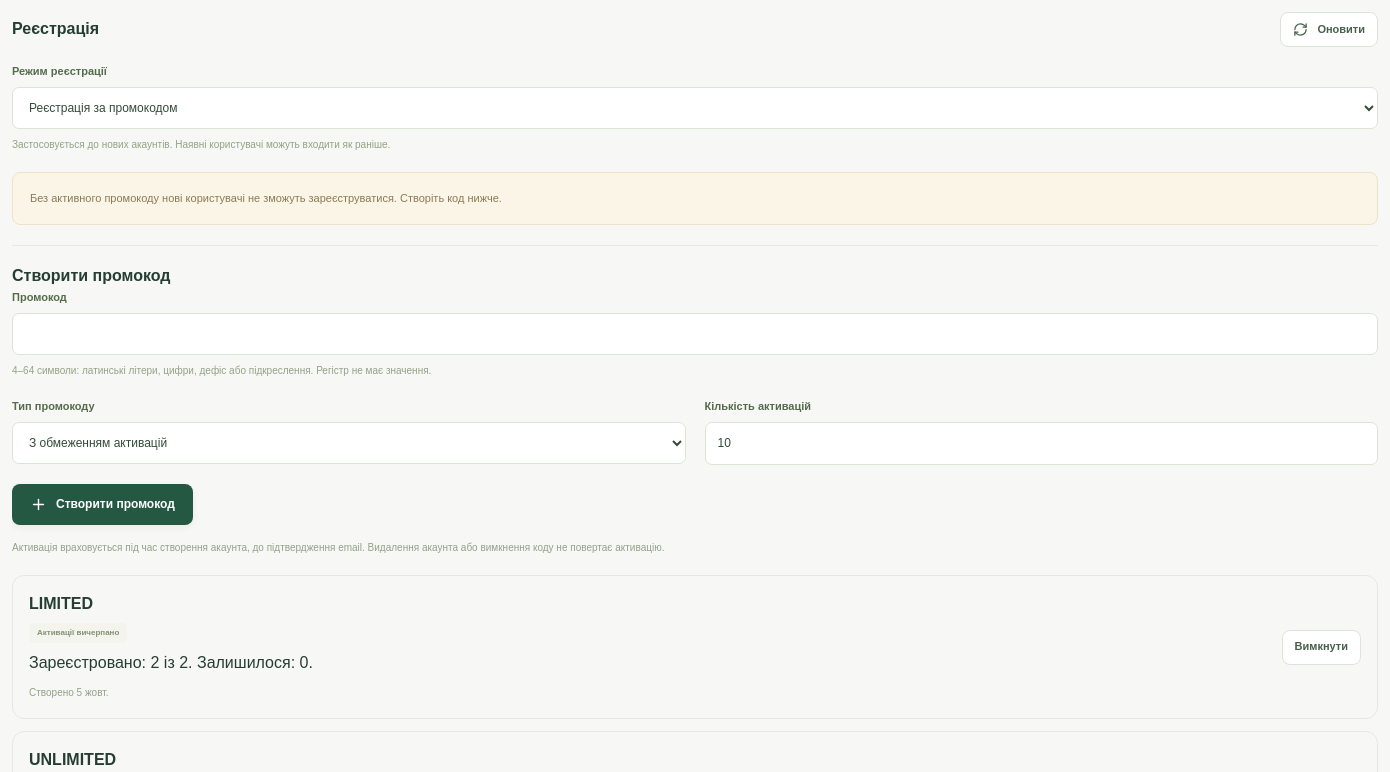
Test case: uses the server aggregate across pages and formats large counts for the interface locale
Click the button "Оновити".
click(1329, 30)  # box left=1280, top=12, right=1378, bottom=47
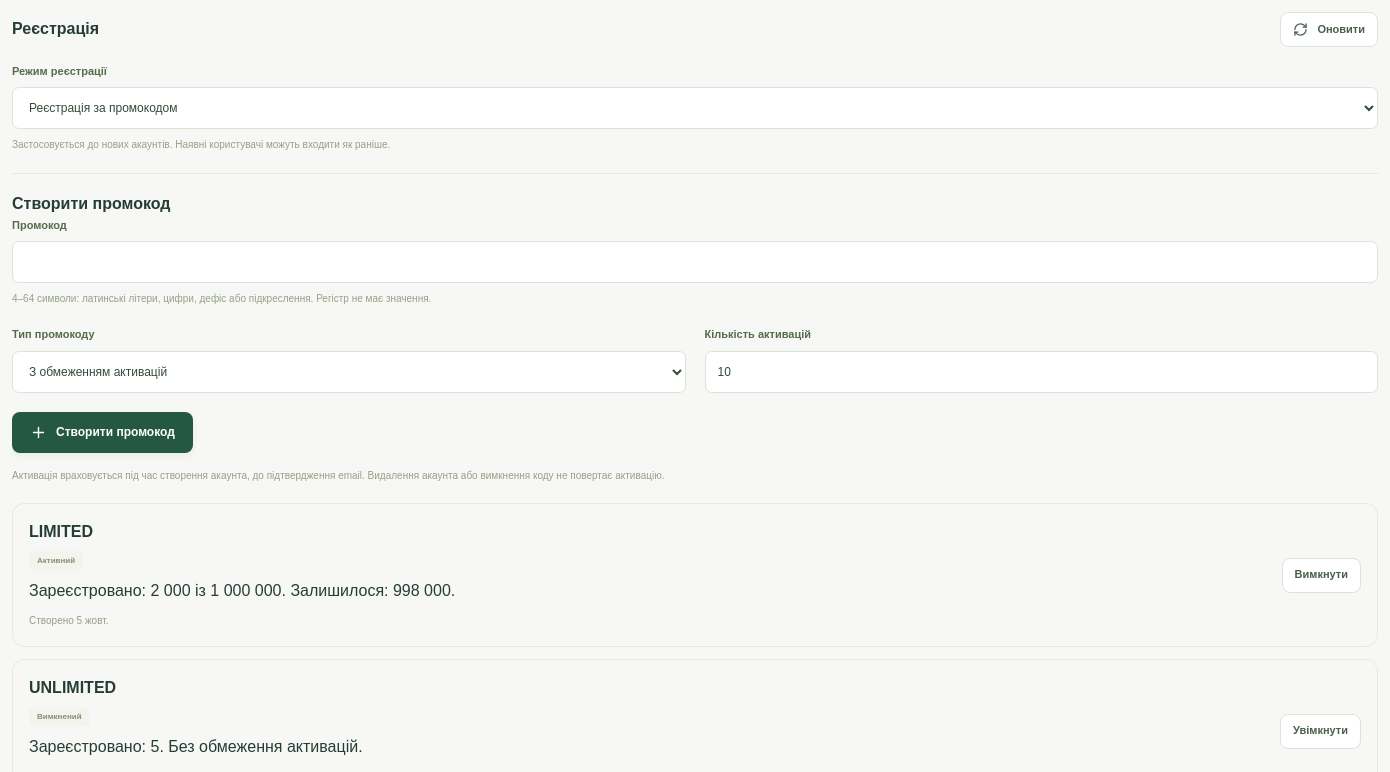
Now the text "Без активного промокоду" is gone
